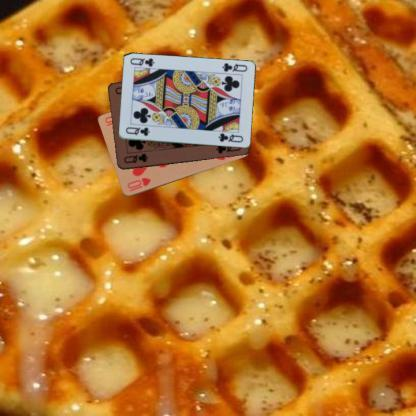10h: (125, 175, 152, 193)
Qc: (121, 150, 149, 164), (123, 124, 151, 138), (219, 60, 248, 72)
